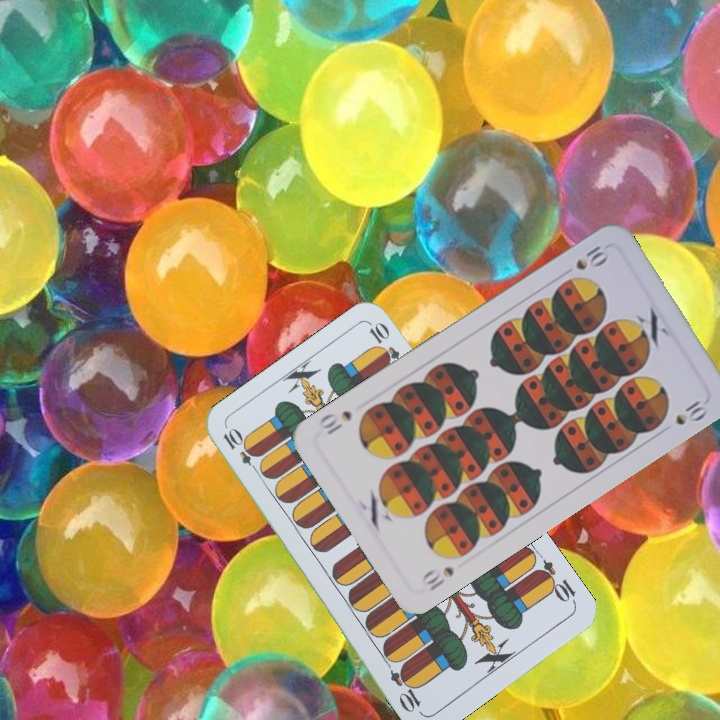E10: (531, 556, 579, 607), (219, 424, 264, 477)
S10: (571, 241, 611, 273), (417, 562, 457, 594)
